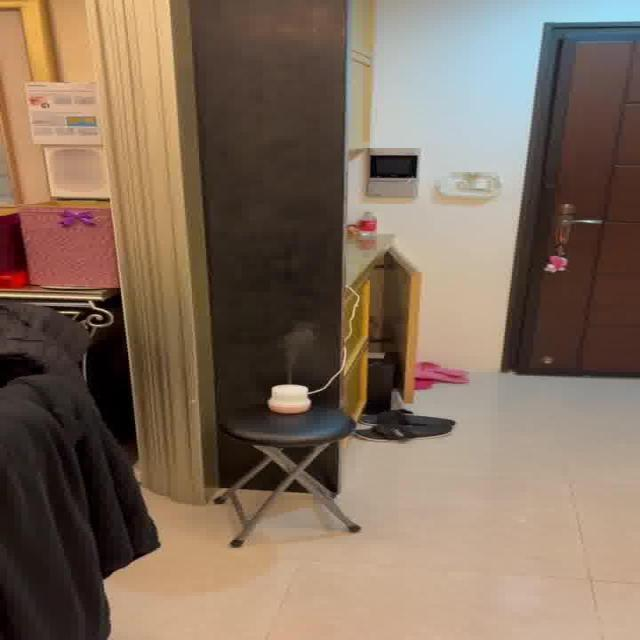fire: (274, 316, 330, 374)
